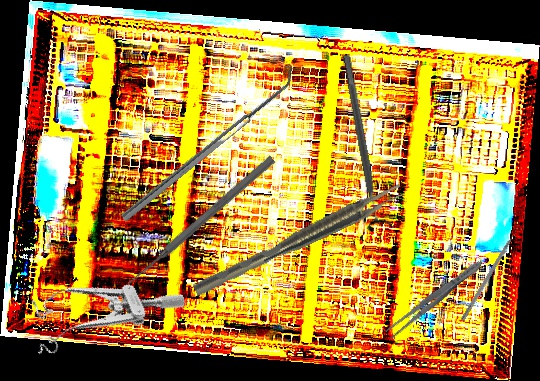Dressing Forceps: (382, 256, 487, 342)
Fixation Ring: (333, 52, 394, 233)
Hook Surgical: (460, 225, 522, 322)
Pusher: (123, 153, 277, 290)
Spatula Surgical: (115, 66, 302, 222)
Speculum: (17, 243, 188, 369)
Tissue Forceps: (189, 181, 407, 297)
